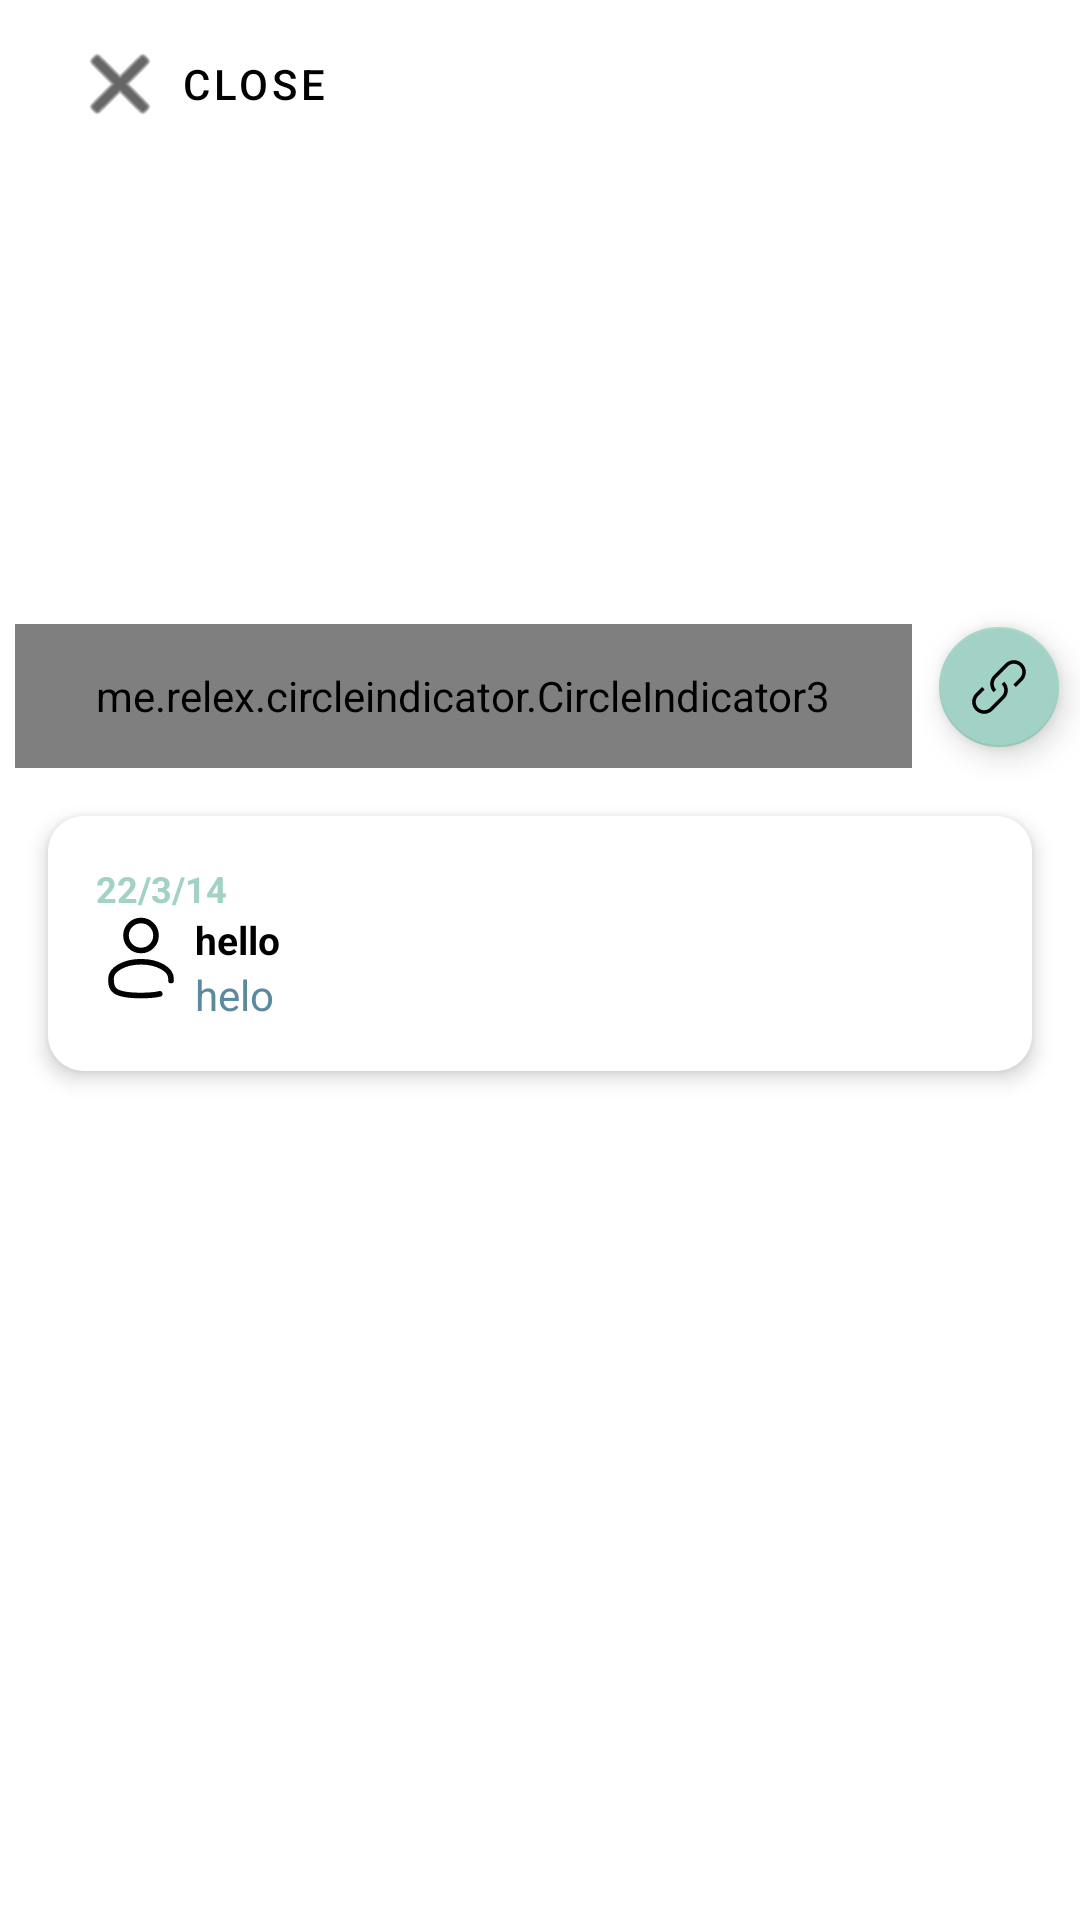

Icon click points for this 1080 x 1920 phone screenshot, format (x,y):
link: (1000,689)
user: (141,958)
